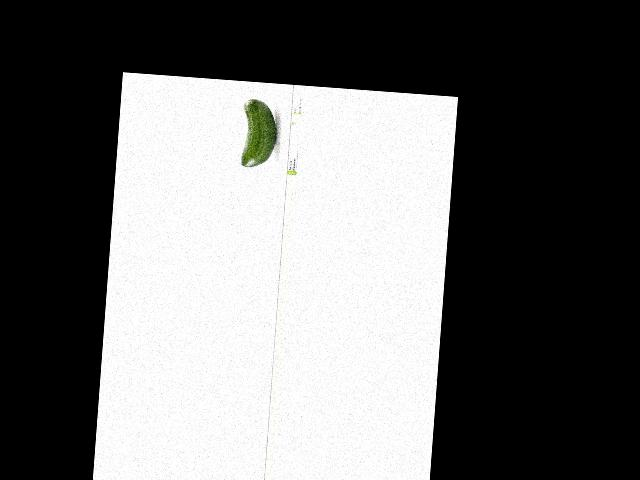cucumber: (240, 98, 279, 168)
